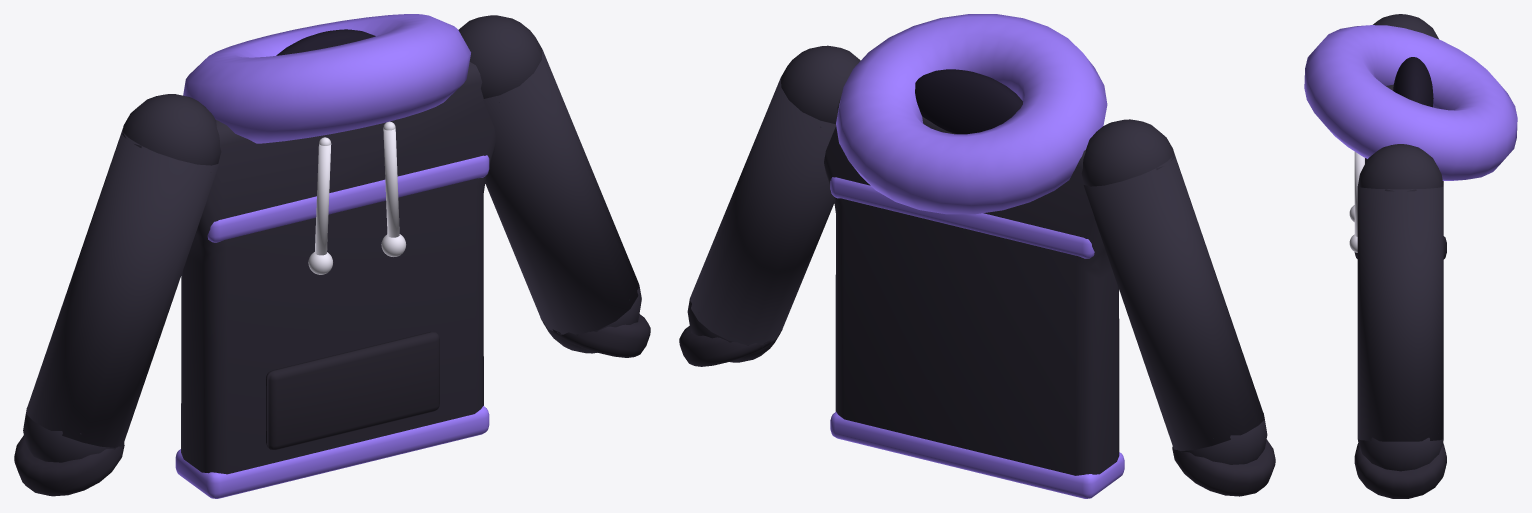
Rendered from item_hoodie.fbx.
3 renders of one model, left to right at view 1: azimuth 30°, elevation 25°; view 2: azimuth 150°, elevation 25°; view 3: azimuth 270°, elevation 25°, orthographic. The views are drawn at different scales.
Parts seen in each view (by area): view 1: item_hoodie; view 2: item_hoodie; view 3: item_hoodie.
Boxes of the visible parts, left/top/right/bottom form: item_hoodie: left=14, top=14, right=650, bottom=498; item_hoodie: left=679, top=14, right=1275, bottom=498; item_hoodie: left=1304, top=14, right=1517, bottom=498.
Size of the model in its own units: 0.5772 by 0.3911 by 0.2082.
